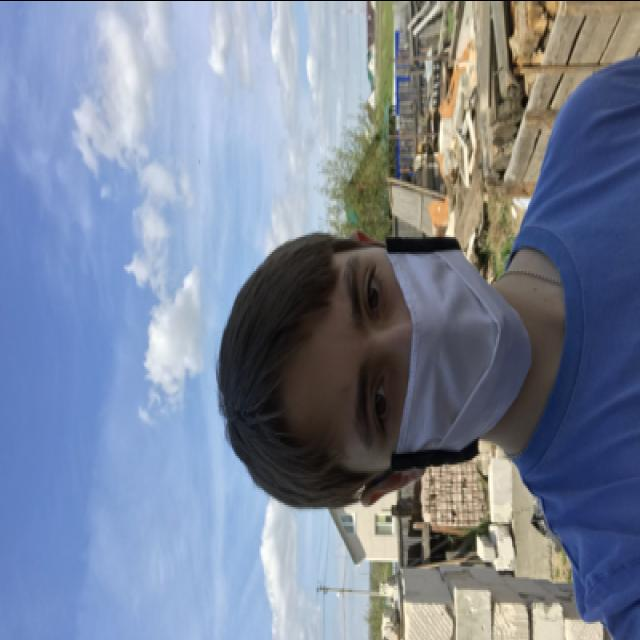with_mask: (317, 236, 531, 476)
